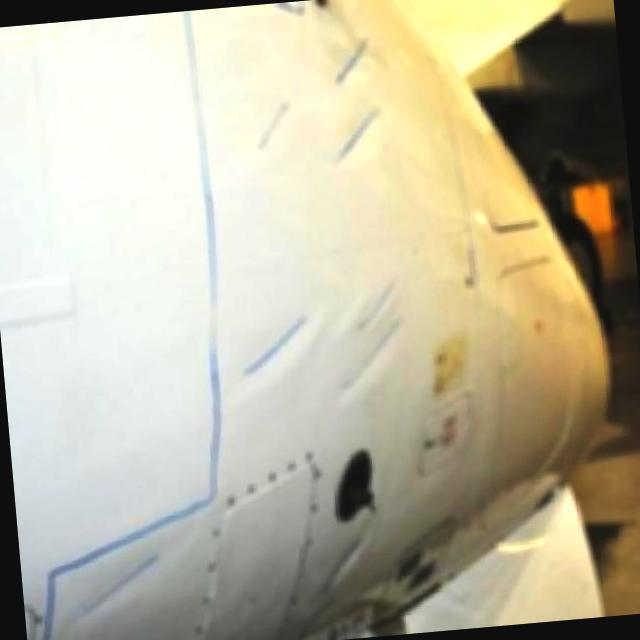dent: (228, 298, 324, 388), (68, 546, 174, 620), (328, 324, 407, 401), (314, 531, 372, 591), (338, 280, 397, 334)
